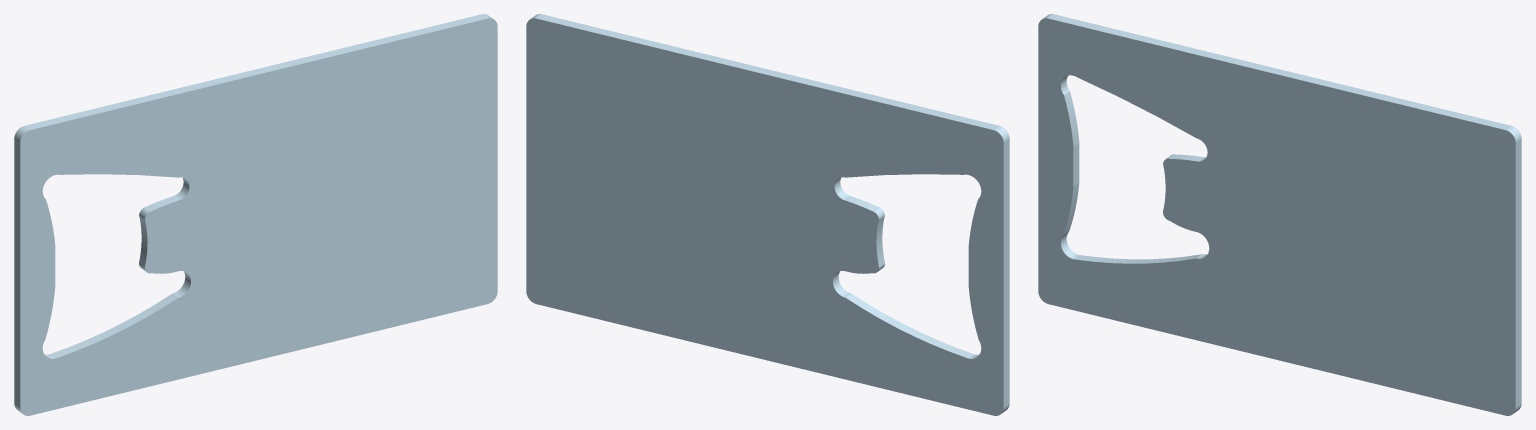
Rendered from BottleOpener.gltf.
3 renders of one model, left to right at view 1: azimuth 30°, elevation 25°; view 2: azimuth 150°, elevation 25°; view 3: azimuth 330°, elevation 25°, orthographic.
Visible parts, largest first — view 1: Part 1; view 2: Part 1; view 3: Part 1.
Part boxes in pixels (x1,y1,x2,y2): Part 1: (14, 14, 497, 415); Part 1: (526, 14, 1009, 415); Part 1: (1038, 14, 1521, 415).
Bounding box in the file's own units: 0.0889 × 0.0508 × 0.0019.
